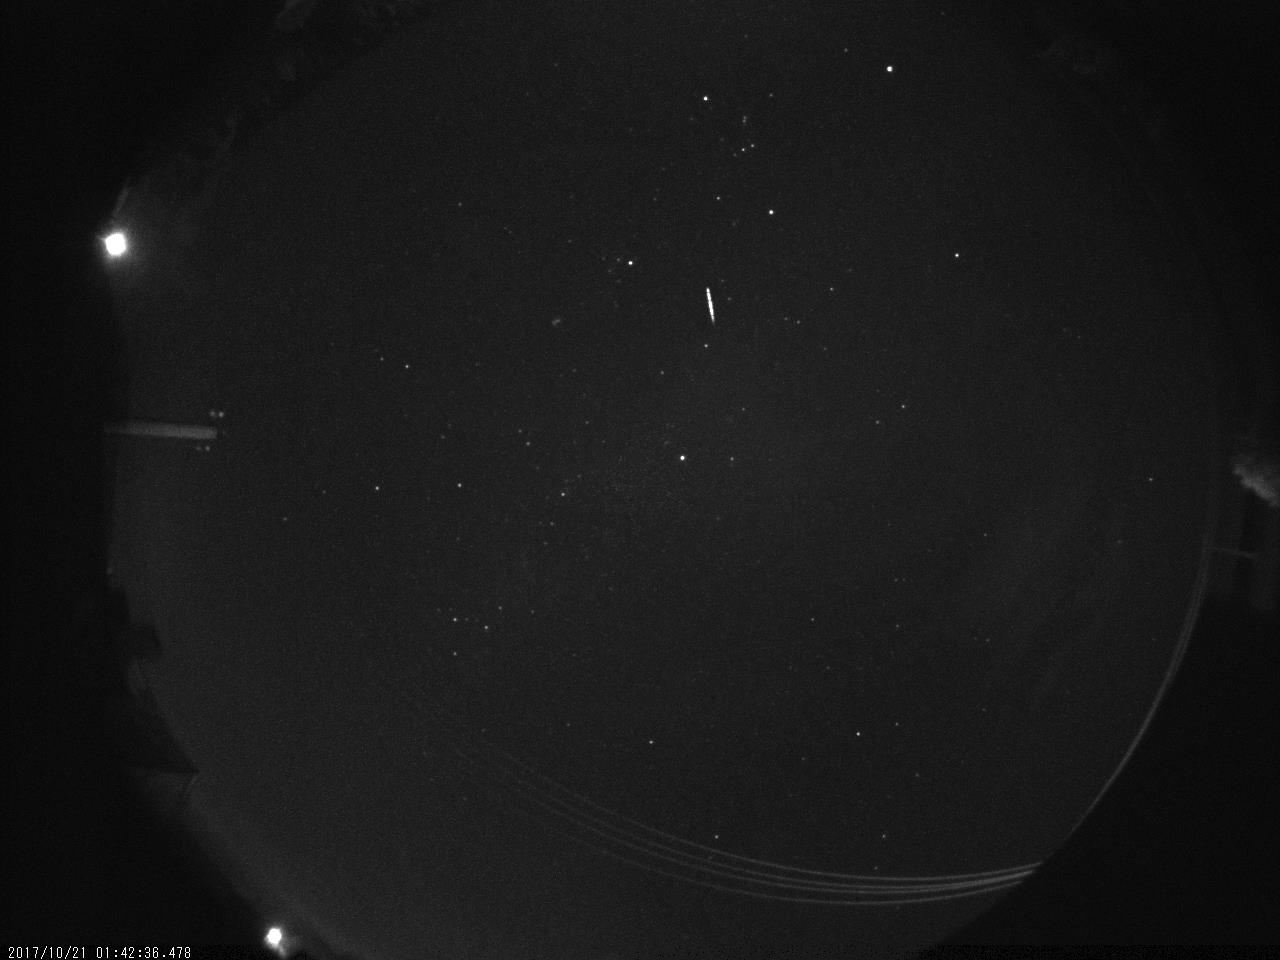meteor: (692, 278, 730, 335)
